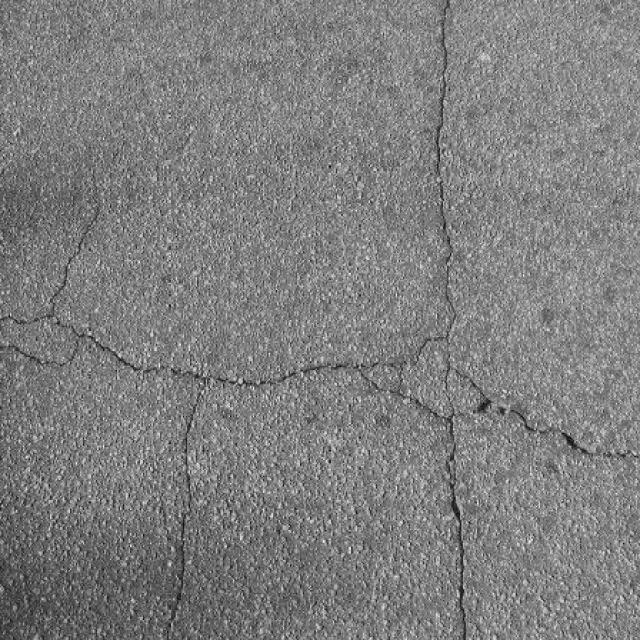Crack: (2, 0, 640, 639)
